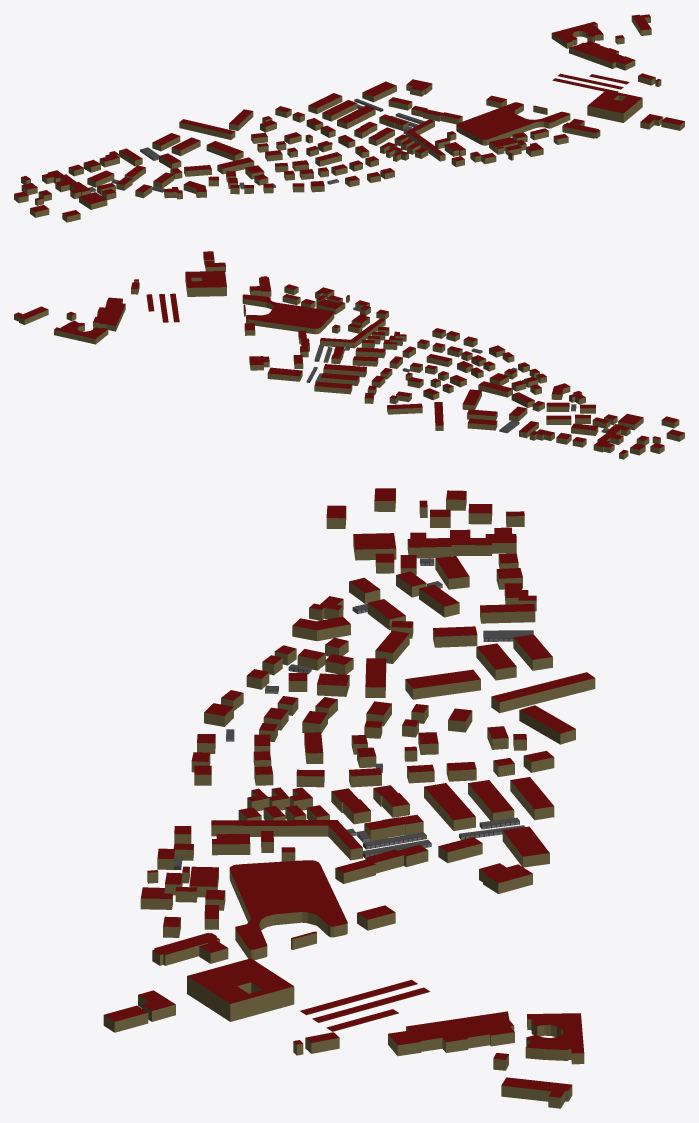
File: Ingolstadt_Tile_6_9.obj
3 renders of one model, top to bottom at view 1: azimuth 30°, elevation 25°; view 2: azimuth 150°, elevation 25°; view 3: azimuth 270°, elevation 25°, orthographic. The views are drawn at different scales.
Parts seen in each view (by area): view 1: Building121, Building Nordbahnhof, Building Netto Marken-Discount, Building AWO Seniorenzentrum Katharinengarten, Building49, Building115, Building66, Building64, Building114, Building Istanbul Market, Building63, Building32 (+7 smaller); view 2: Building121, Building Nordbahnhof, Building Netto Marken-Discount, Building AWO Seniorenzentrum Katharinengarten, Building49, Building66, Building64, Building Istanbul Market, Building62, Building63, Building27, Building54 (+1 smaller); view 3: Building121, Building Nordbahnhof, Building Netto Marken-Discount, Building AWO Seniorenzentrum Katharinengarten, Building49, Building66, Building115, Building114, Building27, Building64, Building Istanbul Market, Building54 (+9 smaller).
Part boxes in pixels (<box>): Building121: <box>456,102,570,145</box>; Building Nordbahnhof: <box>587,90,642,122</box>; Building Netto Marken-Discount: <box>569,41,635,70</box>; Building AWO Seniorenzentrum Katharinengarten: <box>551,21,603,48</box>; Building49: <box>42,170,91,199</box>; Building115: <box>179,119,235,139</box>; Building66: <box>406,119,437,154</box>; Building64: <box>337,105,375,128</box>; Building114: <box>206,141,243,160</box>; Building Istanbul Market: <box>362,81,396,102</box>; Building63: <box>322,100,357,121</box>; Building32: <box>562,122,600,138</box>; Building121: <box>242,294,334,334</box>; Building Nordbahnhof: <box>185,271,226,296</box>; Building Netto Marken-Discount: <box>93,297,125,331</box>; Building AWO Seniorenzentrum Katharinengarten: <box>54,320,108,344</box>; Building49: <box>593,424,630,453</box>; Building66: <box>320,324,377,348</box>; Building64: <box>323,364,366,377</box>; Building Istanbul Market: <box>267,367,302,381</box>; Building62: <box>314,381,352,394</box>; Building63: <box>320,373,359,385</box>; Building27: <box>14,306,48,324</box>; Building54: <box>387,403,422,414</box>; Building121: <box>229,860,347,960</box>; Building Nordbahnhof: <box>187,958,294,1021</box>; Building Netto Marken-Discount: <box>388,1011,514,1056</box>; Building AWO Seniorenzentrum Katharinengarten: <box>525,1013,584,1064</box>; Building49: <box>407,527,516,558</box>; Building66: <box>244,820,362,860</box>; Building115: <box>491,672,595,713</box>; Building114: <box>405,669,480,699</box>; Building27: <box>501,1077,572,1108</box>; Building64: <box>424,783,475,830</box>; Building Istanbul Market: <box>502,826,549,867</box>; Building54: <box>519,705,575,744</box>.
Size of the model in its own units: 902 by 12.5 by 307.
